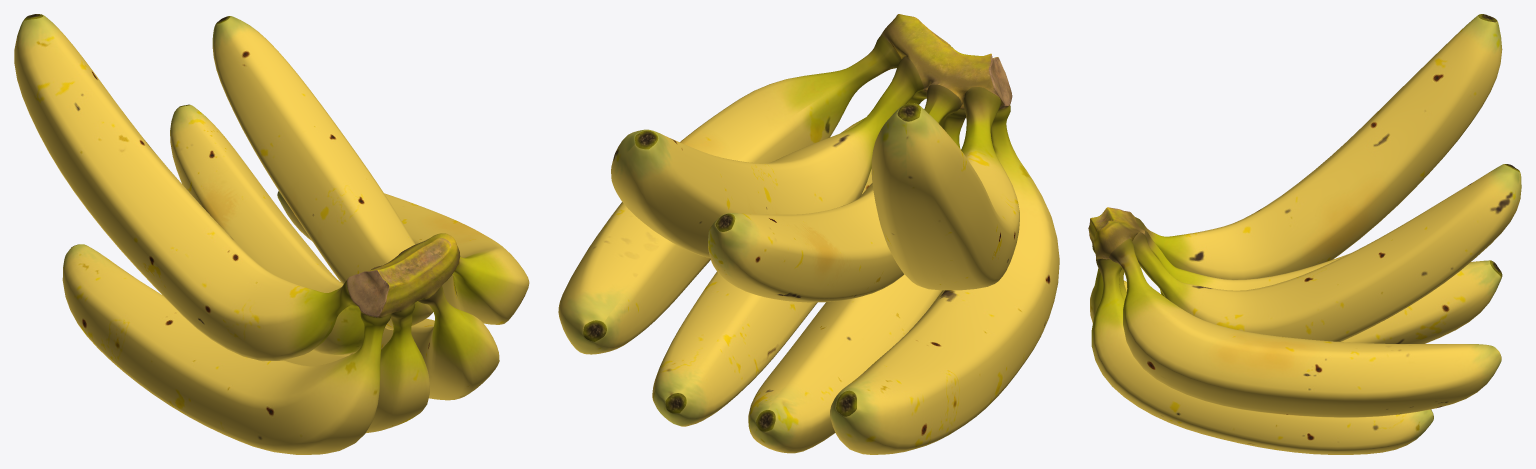
File: banana.glb
The picture shows the model from 3 angles, left to right: view 1: azimuth 30°, elevation 25°; view 2: azimuth 150°, elevation 25°; view 3: azimuth 270°, elevation 25°; orthographic projection. The views are drawn at different scales.
Visible parts, largest first — view 1: Object_2; view 2: Object_2; view 3: Object_2.
Boxes of the visible parts, x1,y1,x2,y2 form: Object_2: (14,14,529,454); Object_2: (558,14,1059,454); Object_2: (1088,14,1521,454).
Bounding box in the file's own units: 14.61 × 13.87 × 16.41.
1 material, 1 textured.
